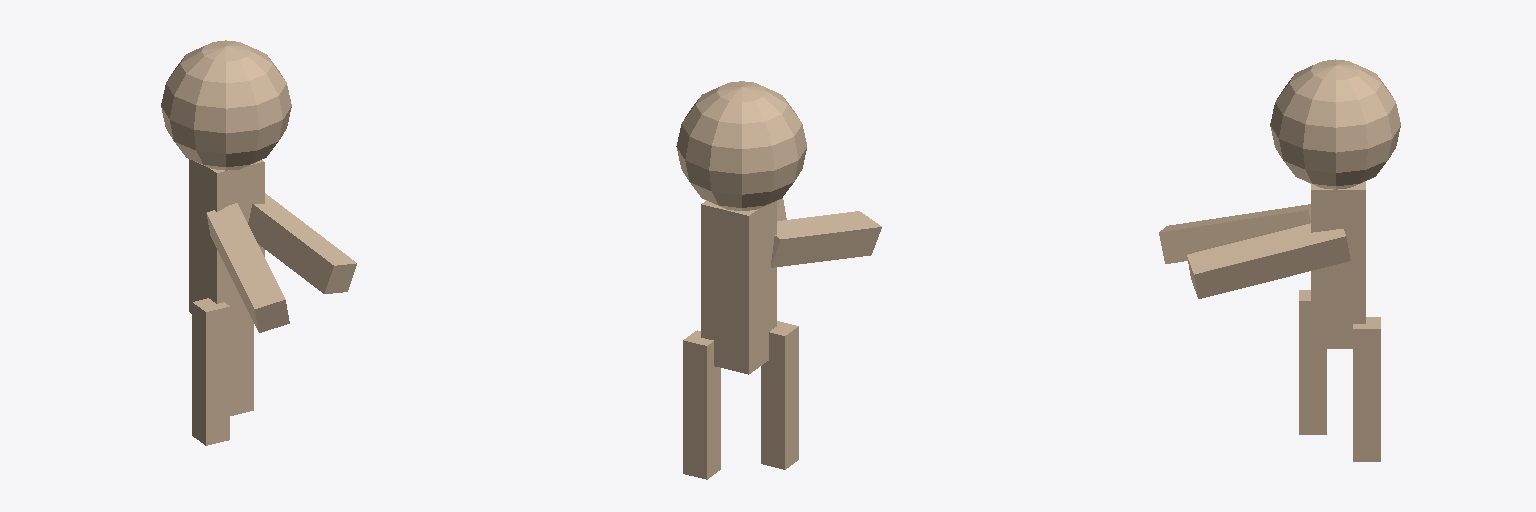
File: enemy_soldier.obj
3 renders of one model, left to right at view 1: azimuth 30°, elevation 25°; view 2: azimuth 150°, elevation 25°; view 3: azimuth 270°, elevation 25°, orthographic.
Visible parts, largest first — view 1: mesh01; view 2: mesh01; view 3: mesh01.
Boxes of the visible parts, x1=… form: mesh01: x1=161, y1=40, x2=356, y2=445; mesh01: x1=676, y1=81, x2=881, y2=479; mesh01: x1=1159, y1=59, x2=1400, y2=461.
Bounding box in the file's own units: 0.7166 × 2.22 × 1.29.